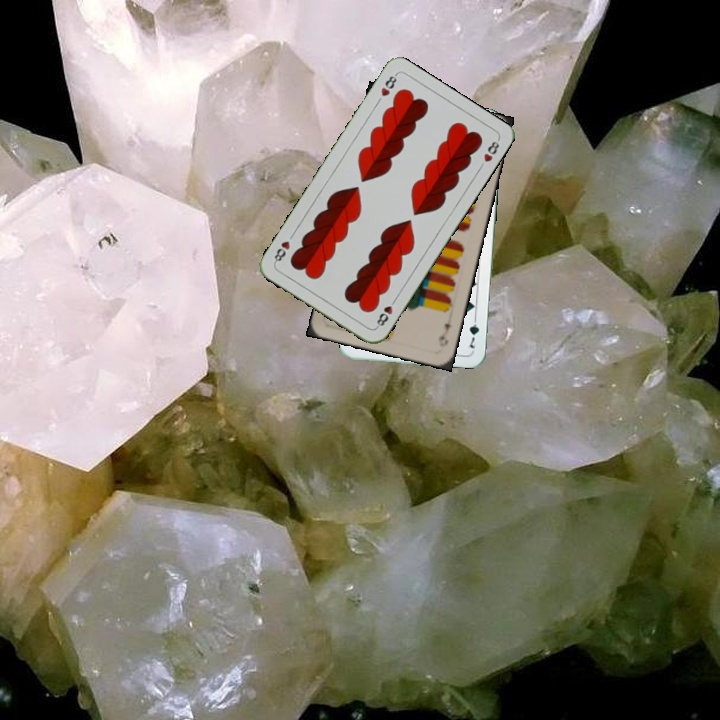E9: (434, 319, 453, 349)
G7: (464, 311, 481, 351)
H8: (372, 294, 399, 330), (376, 70, 399, 99)
